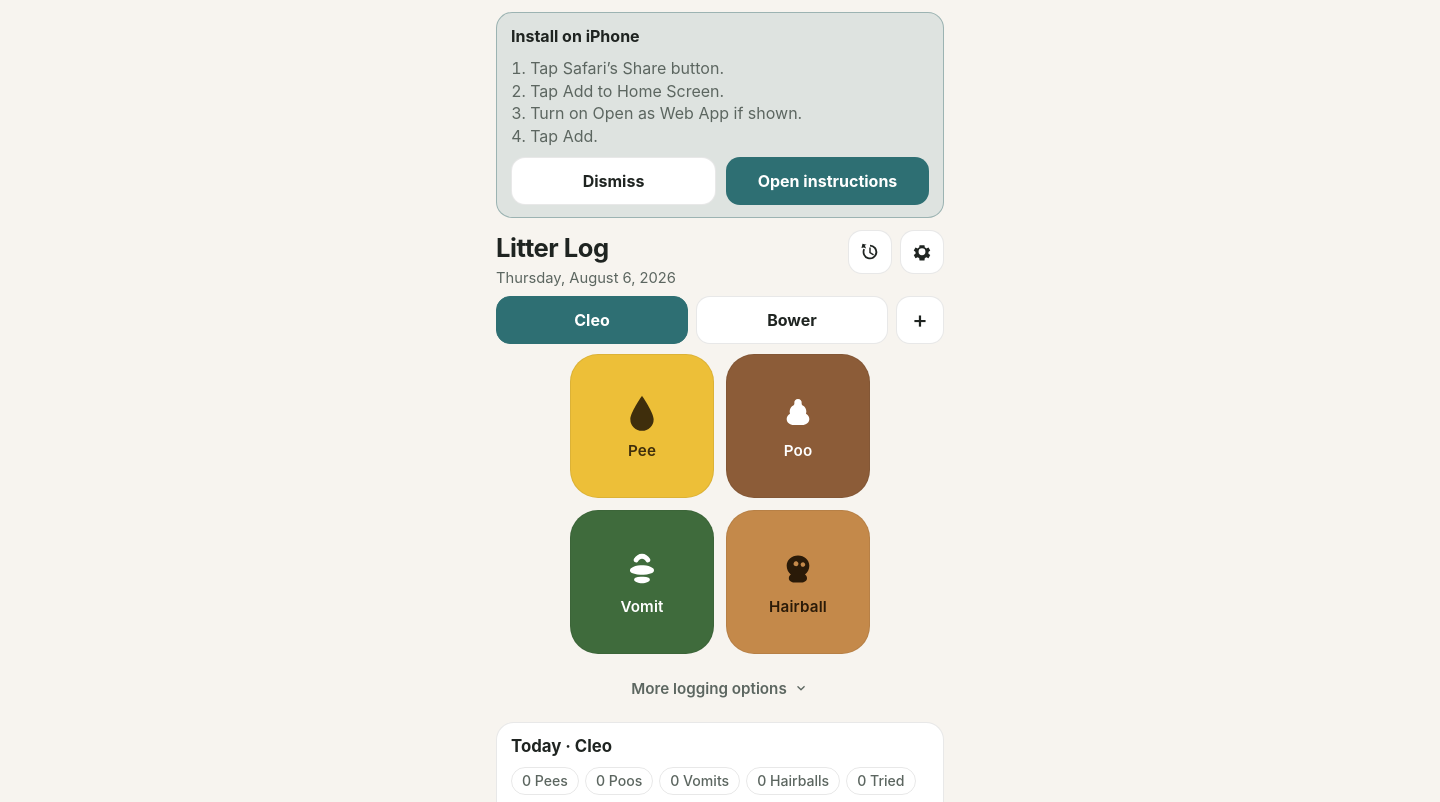
Test case: Vomit and Hairball logging › saves custom vomit detail on Enter and rejects empty custom detail
Check: the radio button labelled "Cleo" is shown, box 496,296 -> 688,344
Click the button "Vomit".
click(642, 582)  # box 570,510 -> 714,654
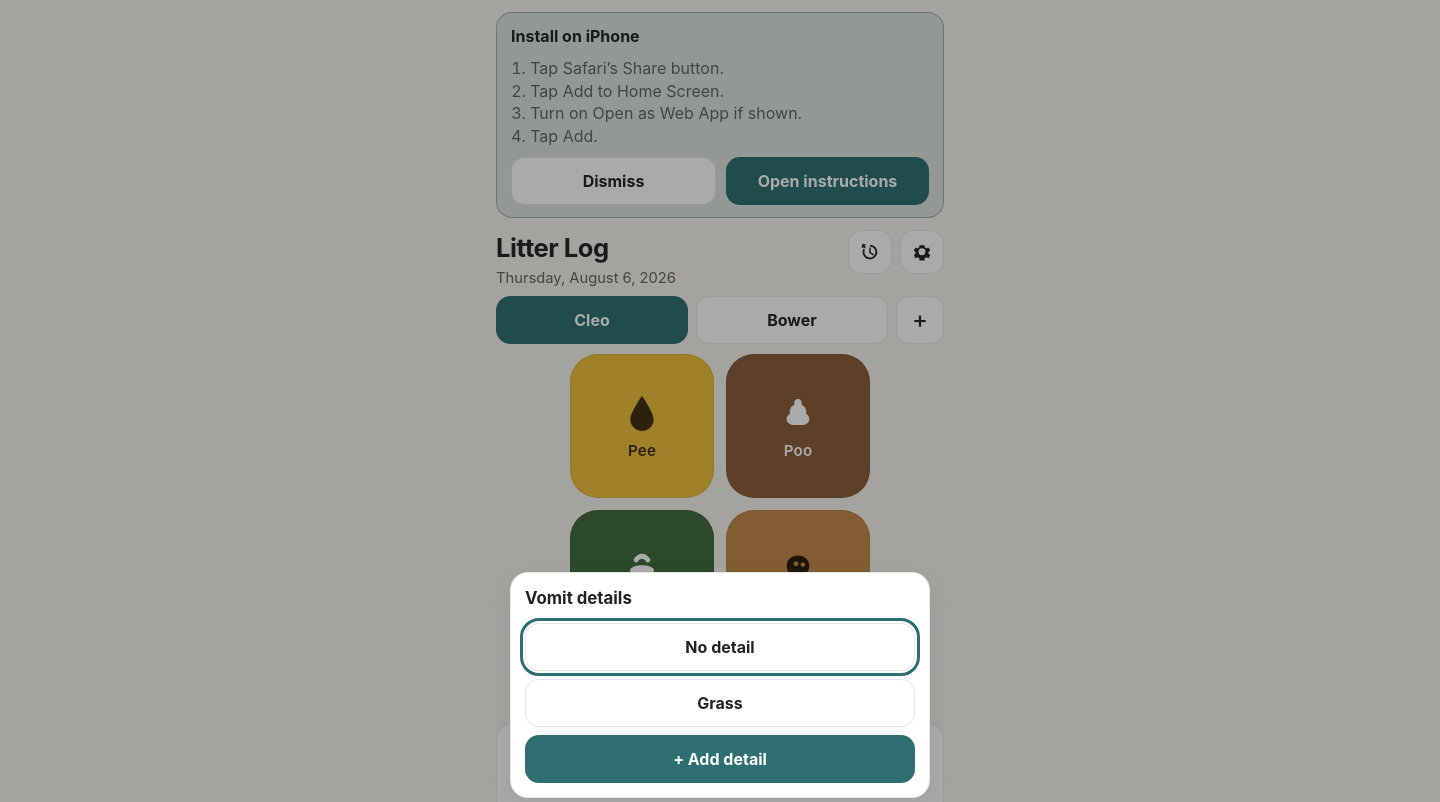
Click the button "+ Add detail".
click(720, 759)  # box 525,735 -> 915,783
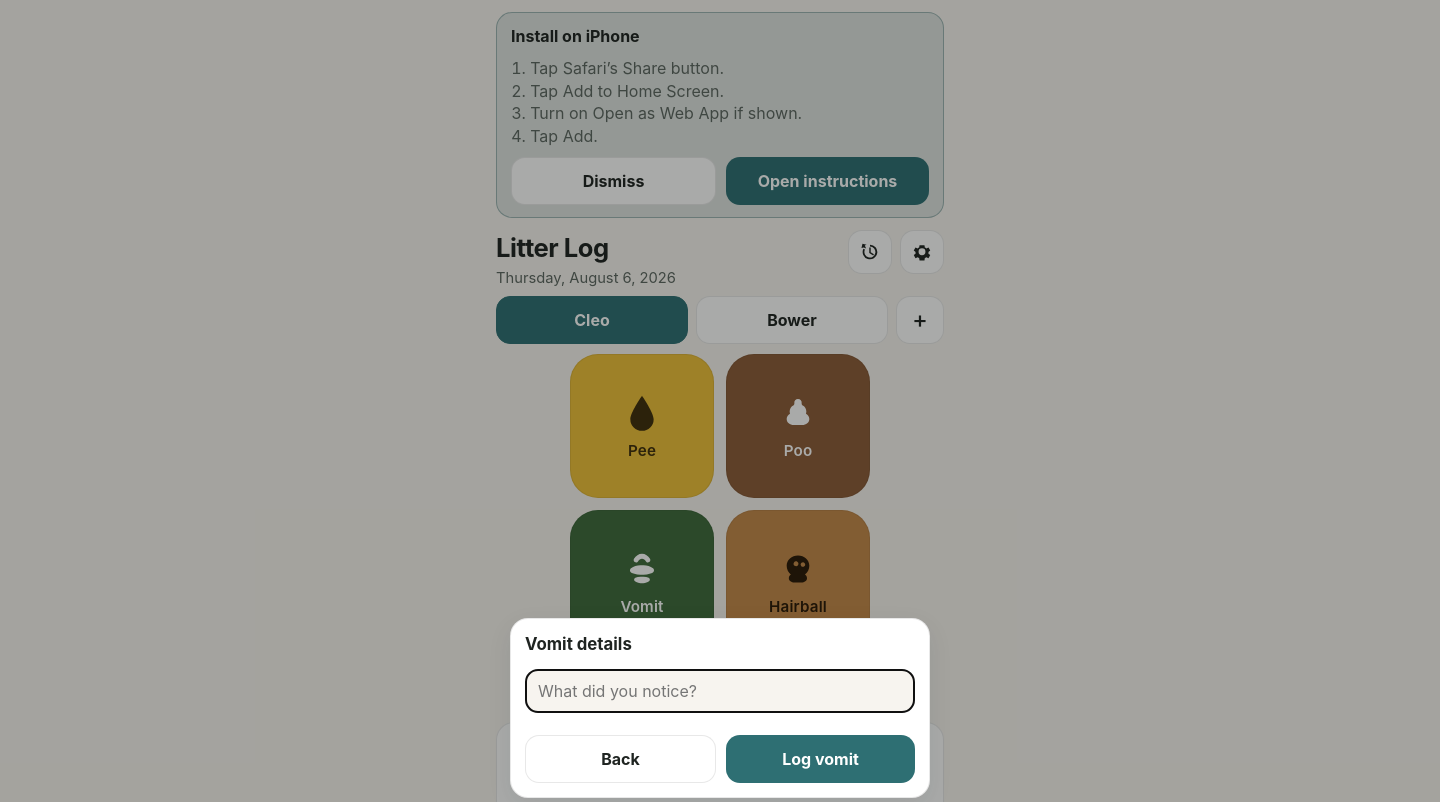
Click the button "Log vomit".
click(820, 759)  # box 726,735 -> 915,783
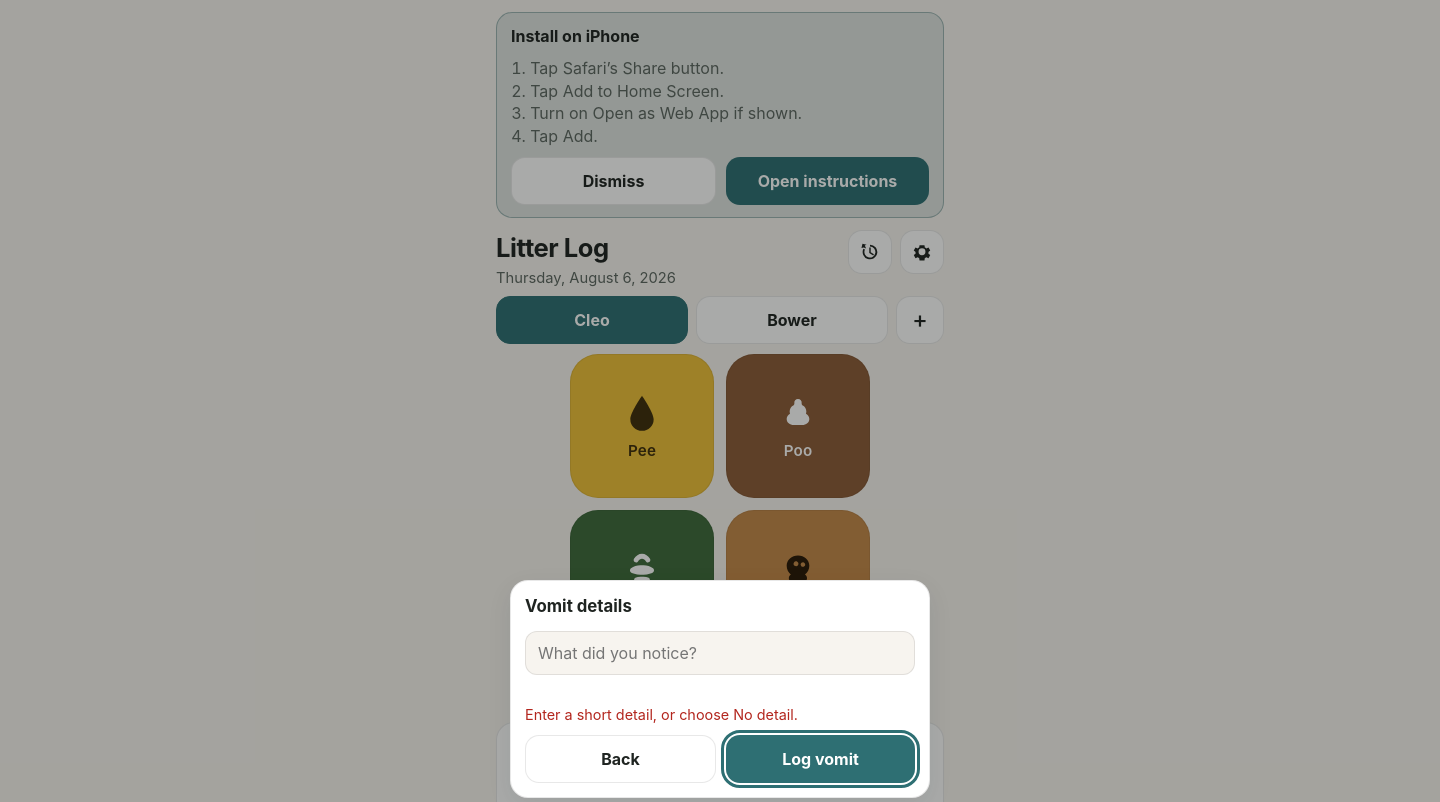
Check: the text "Enter a short detail, or choose No detail." is shown, box 525,706 -> 798,723
Type "  foamy  " into the field with placeholder "What did you notice?".
click(720, 653); type("  foamy  ")  # box 525,631 -> 915,675
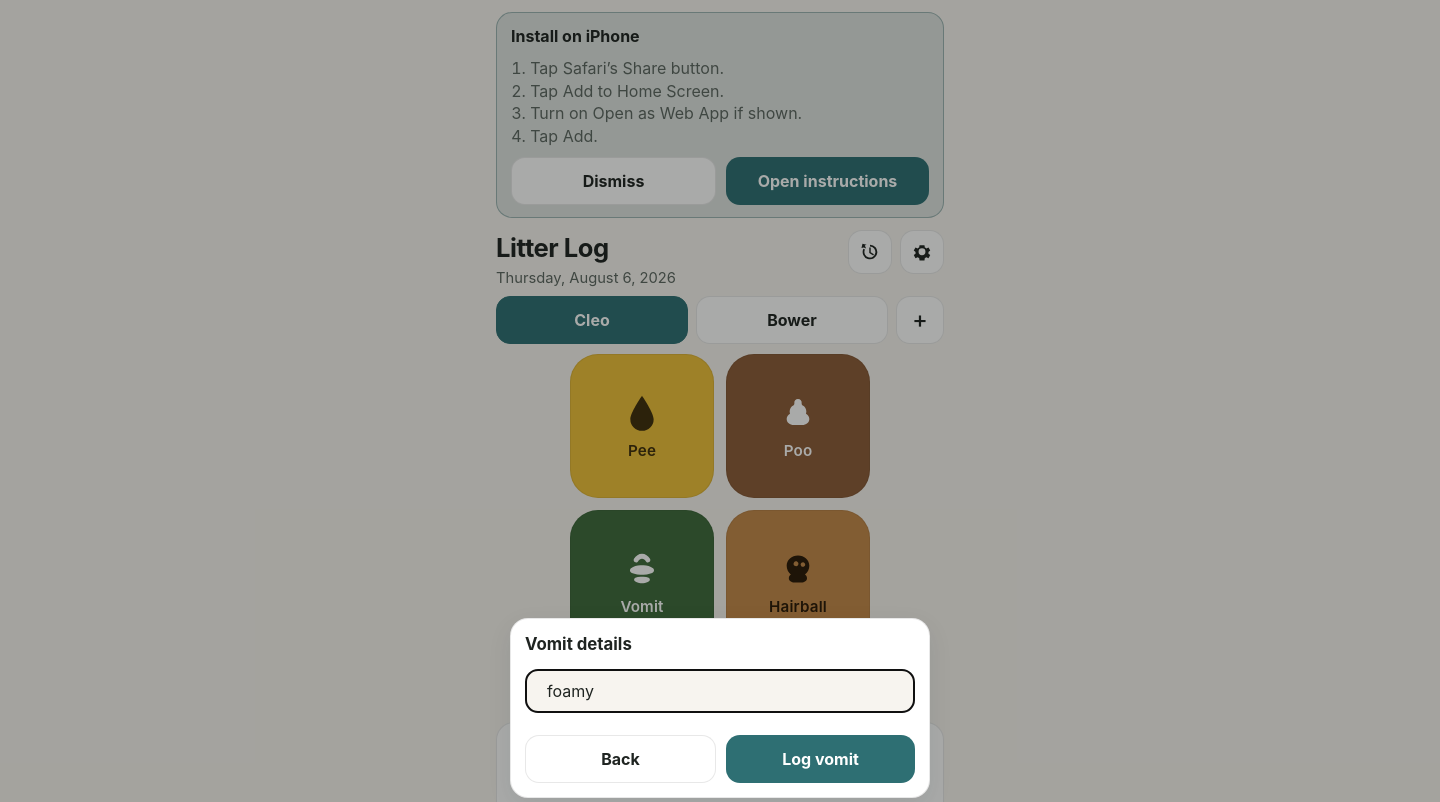
Press Enter
(page scrolled)
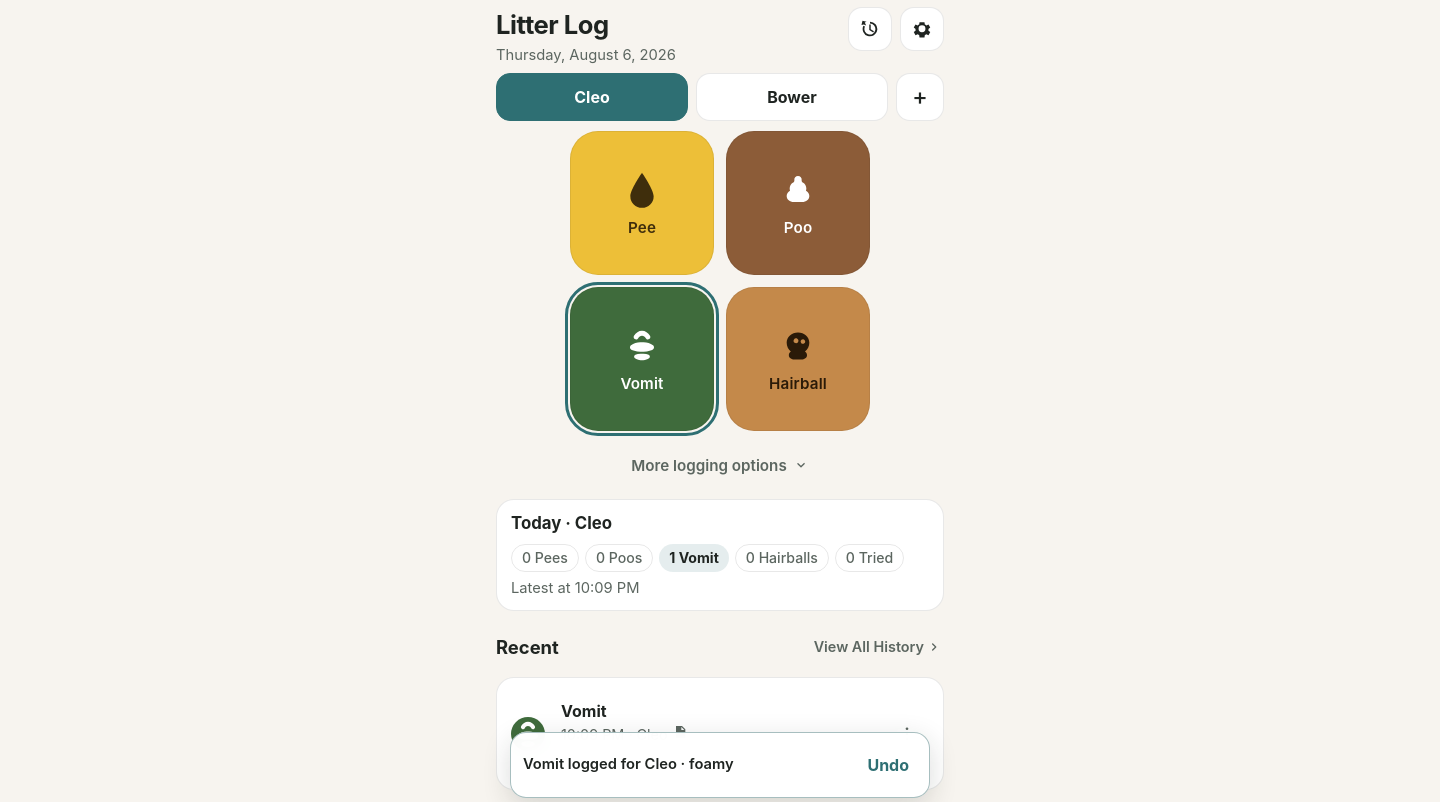
Check: the element with test id "status-toast" shows "Vomit logged for Cleo · foamy", box 523,755 -> 734,773
Check: the text "foamy" is shown, box 561,748 -> 602,765
